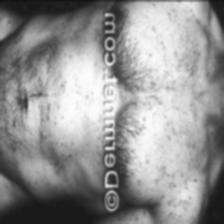Non-Cancerous Skin Condition: (125, 0, 197, 224), (0, 29, 65, 172), (65, 24, 99, 170)
